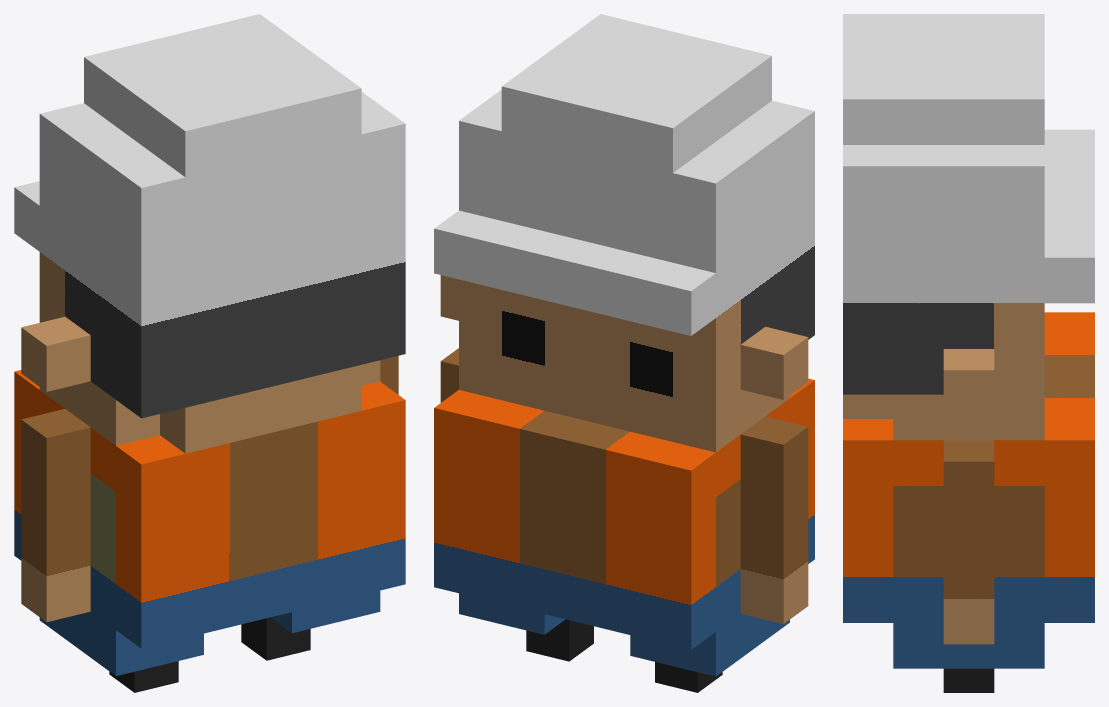
Rendered from chr_worker3.dae.
3 renders of one model, left to right at view 1: azimuth 30°, elevation 25°; view 2: azimuth 150°, elevation 25°; view 3: azimuth 270°, elevation 25°, orthographic. The views are drawn at different scales.
Visible parts, largest first — view 1: chr_worker3; view 2: chr_worker3; view 3: chr_worker3.
Boxes of the visible parts, box(x1,y1,x2,y2) form: chr_worker3: box(14, 14, 405, 692); chr_worker3: box(434, 14, 814, 692); chr_worker3: box(843, 14, 1094, 692).
Bounding box in the file's own units: 0.8 × 0.5 × 1.3.
